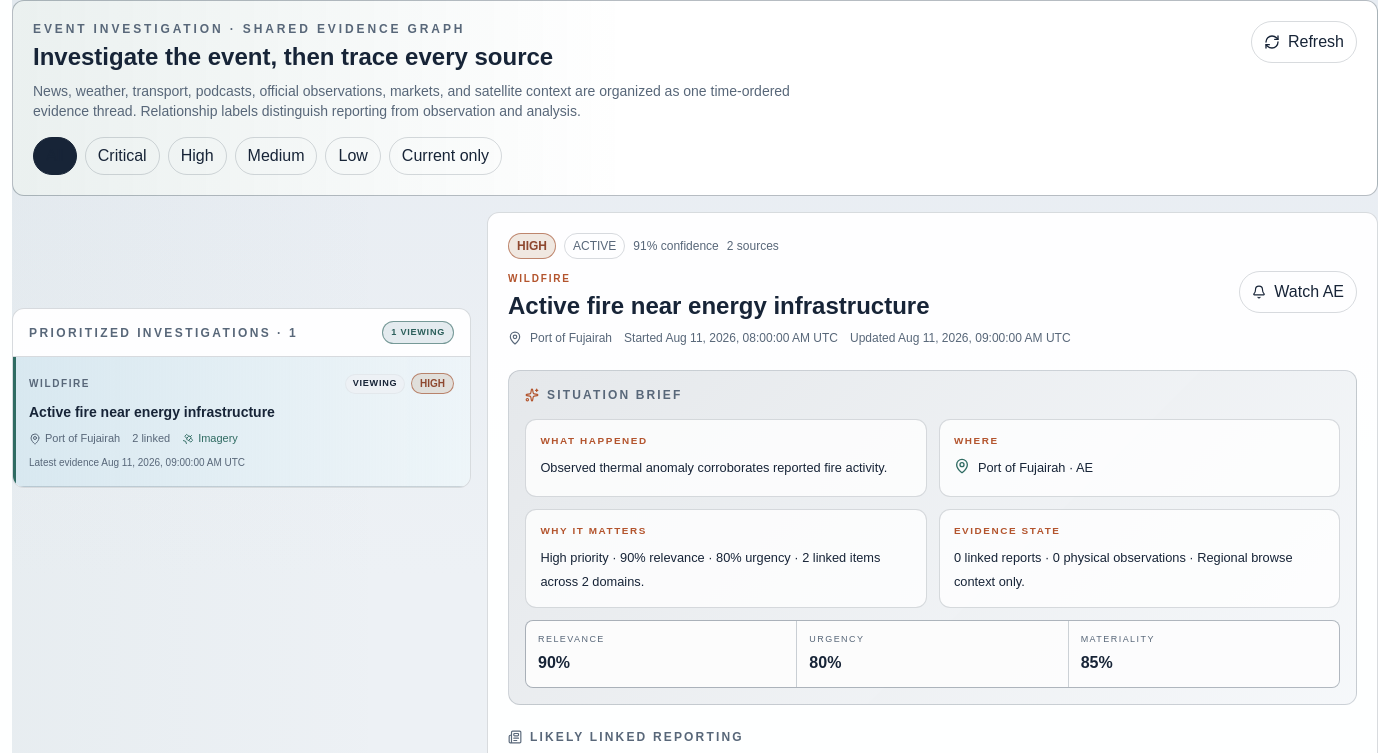
Scenario: IntelligenceWorkspace › ignores an older event response after the user changes filters again
Expected: the heading "Active fire near energy infrastructure" is shown, [508,292,930,319]
Click the button "critical" at point(122, 156), box [85,137,160,175]
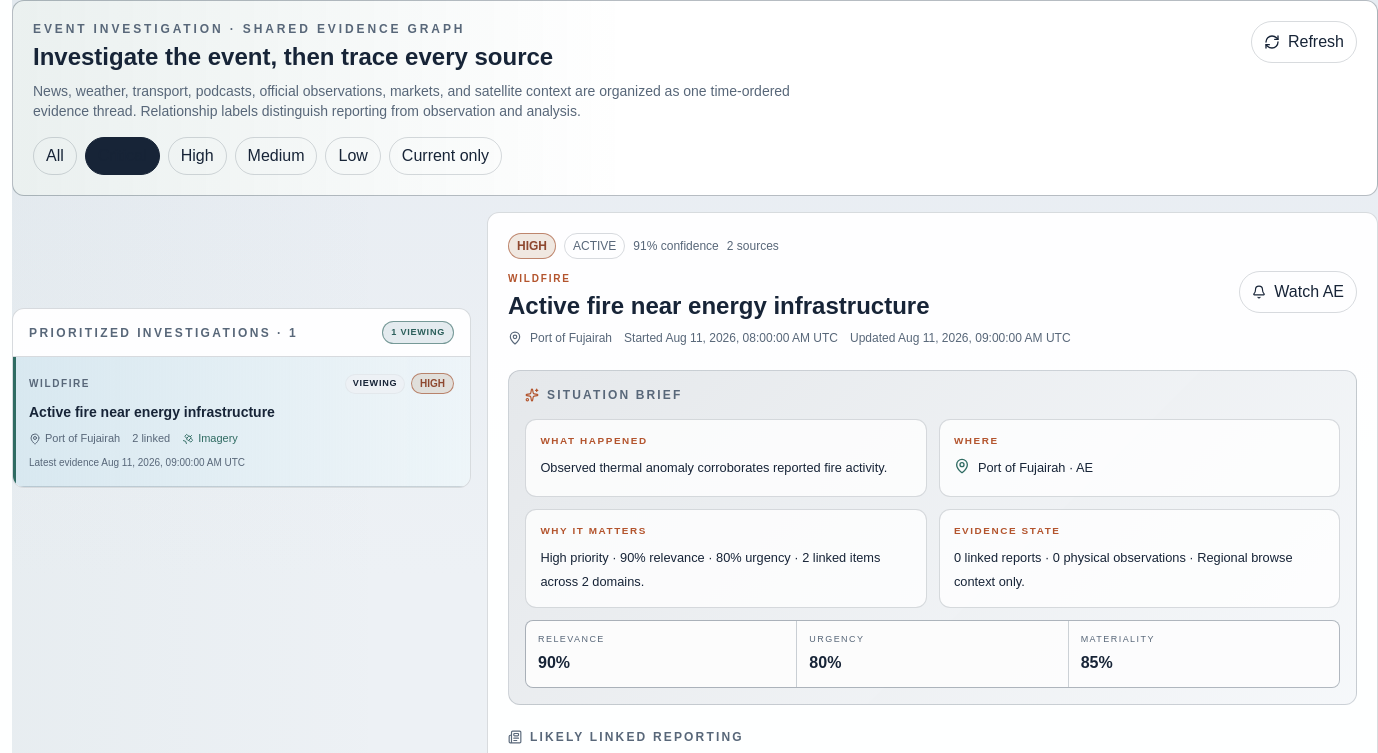
Click the button "low" at point(353, 156), box [326,137,381,175]
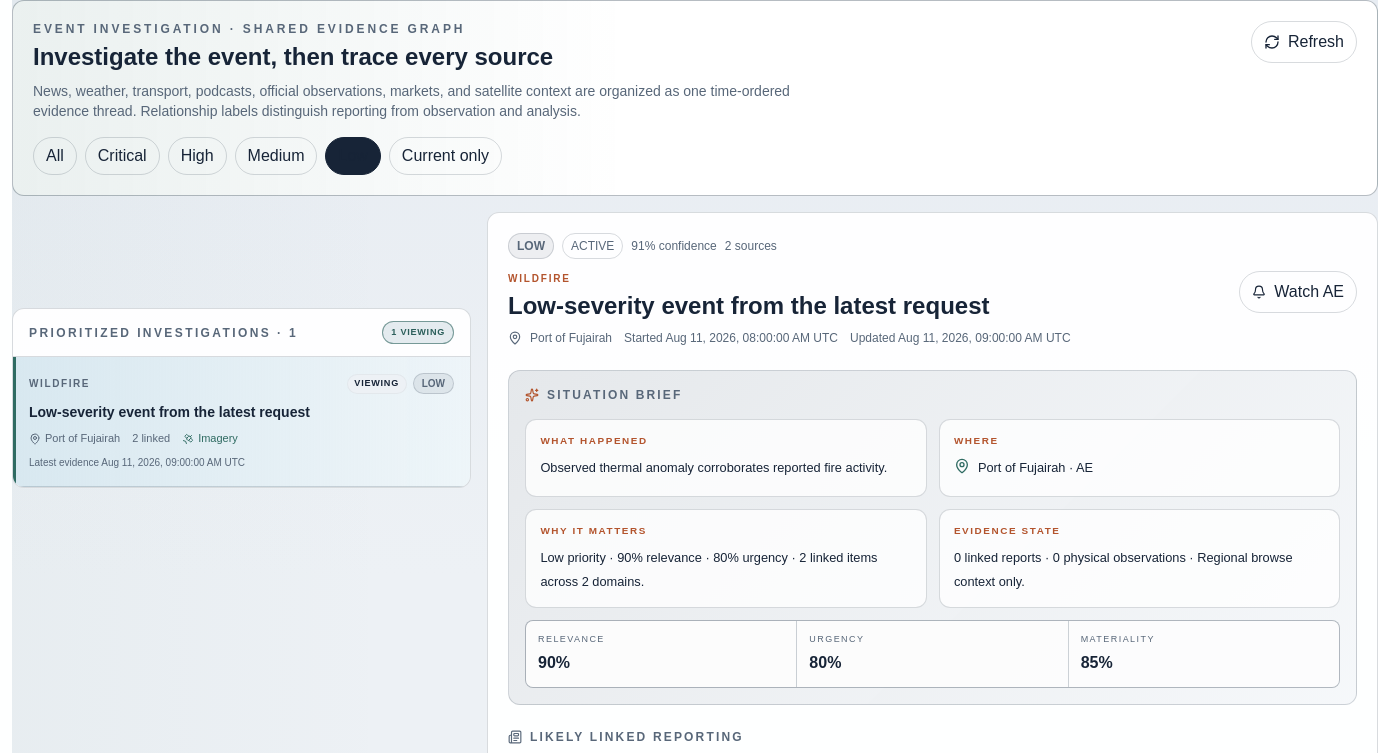
Result: the heading "Low-severity event from the latest request" is shown at [508,290,1071,322]
